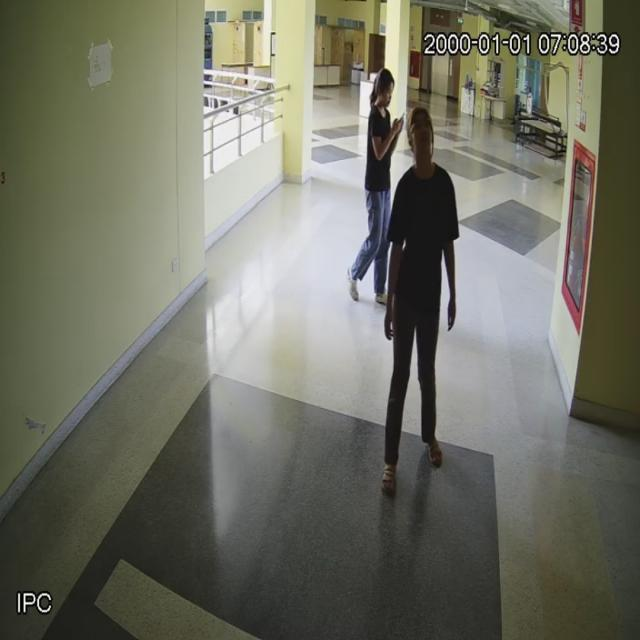normal: (375, 105, 461, 505), (347, 61, 408, 316)
